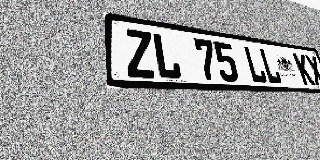5: (213, 41, 240, 82)
7: (192, 38, 221, 81)
K: (293, 53, 316, 85)
L: (151, 32, 182, 80), (242, 45, 268, 83), (258, 48, 283, 84)
X: (304, 54, 320, 86)
Z: (124, 28, 157, 78)
